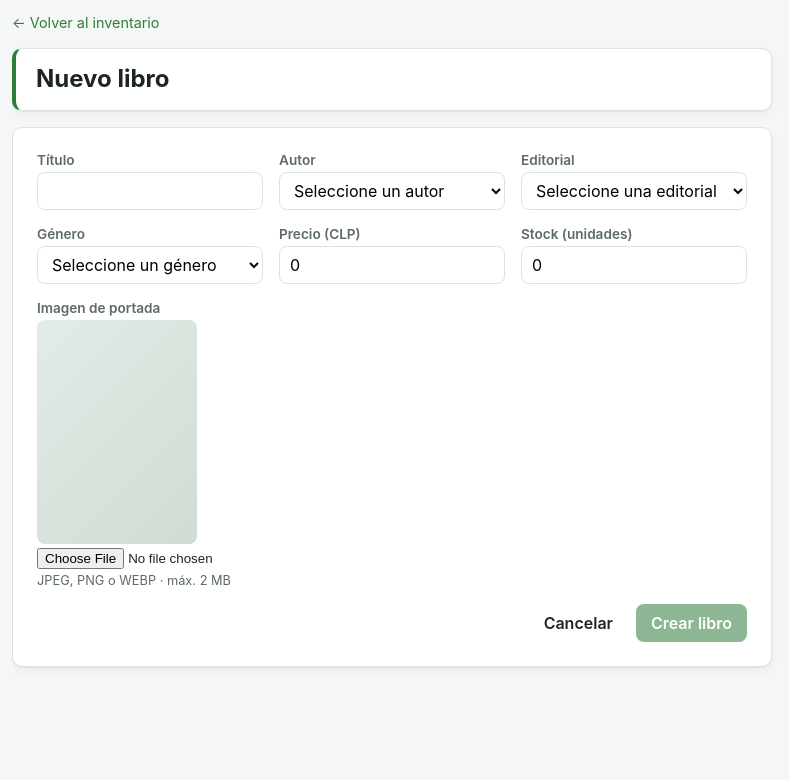
Test: BookCreatePage › keeps the user on the form when saving fails
Type "Rayuela" into the field labelled "Título" at (150, 191), box [37,172,263,210]
Select "Julio Cortázar" in the dropdown labelled "Autor" at (392, 191), box [279,172,505,210]
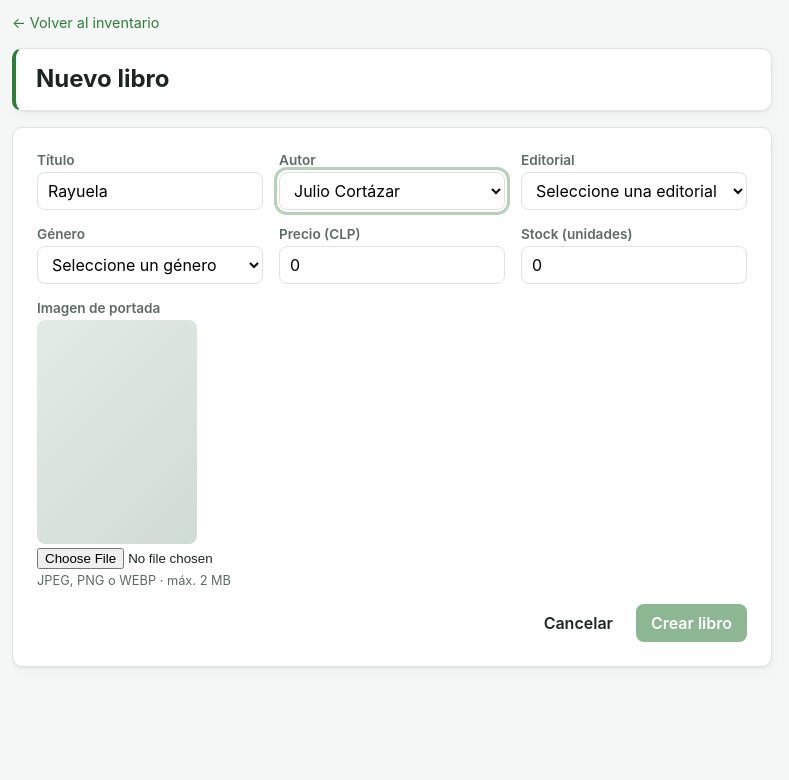
Select "Sudamericana" in the dropdown labelled "Editorial" at (634, 191), box [521,172,747,210]
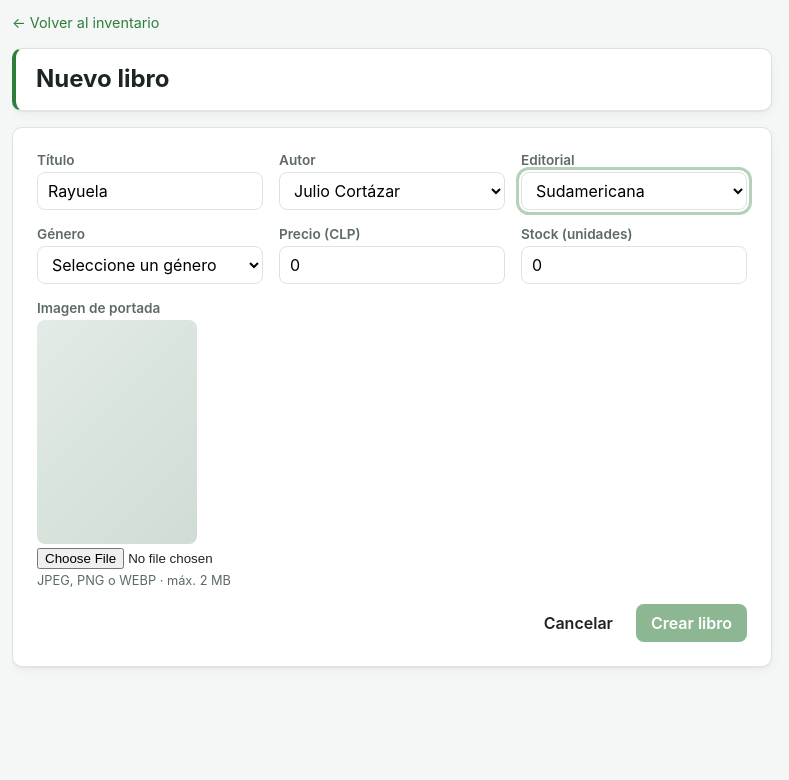
Select "Novela" in the dropdown labelled "Género" at (150, 265), box [37,246,263,284]
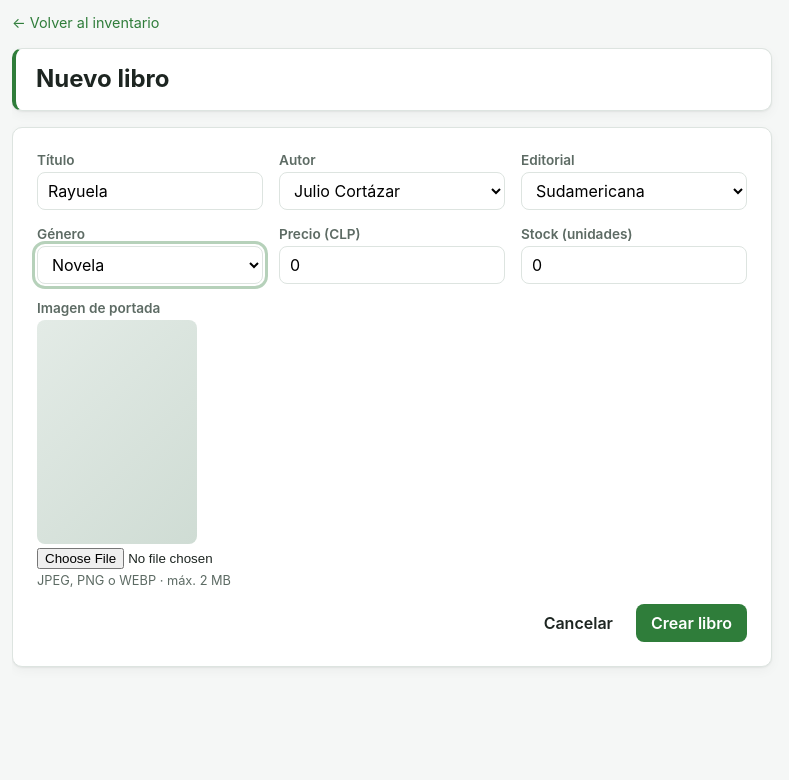
Type "5" into the number field labelled "Precio (CLP)" at (392, 265), box [279,246,505,284]
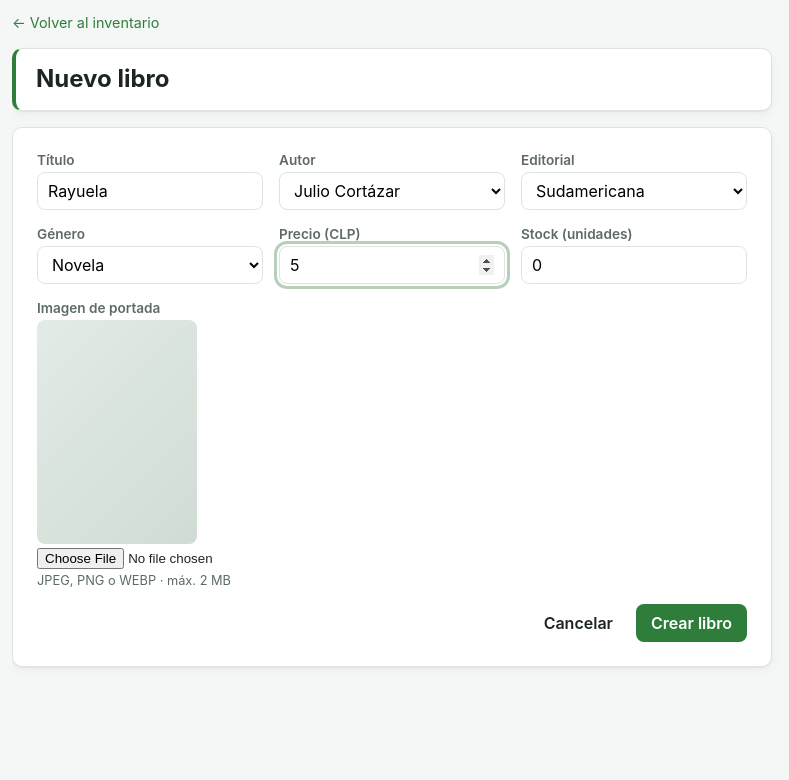
Type "2" into the number field labelled "Stock (unidades)" at (634, 265), box [521,246,747,284]
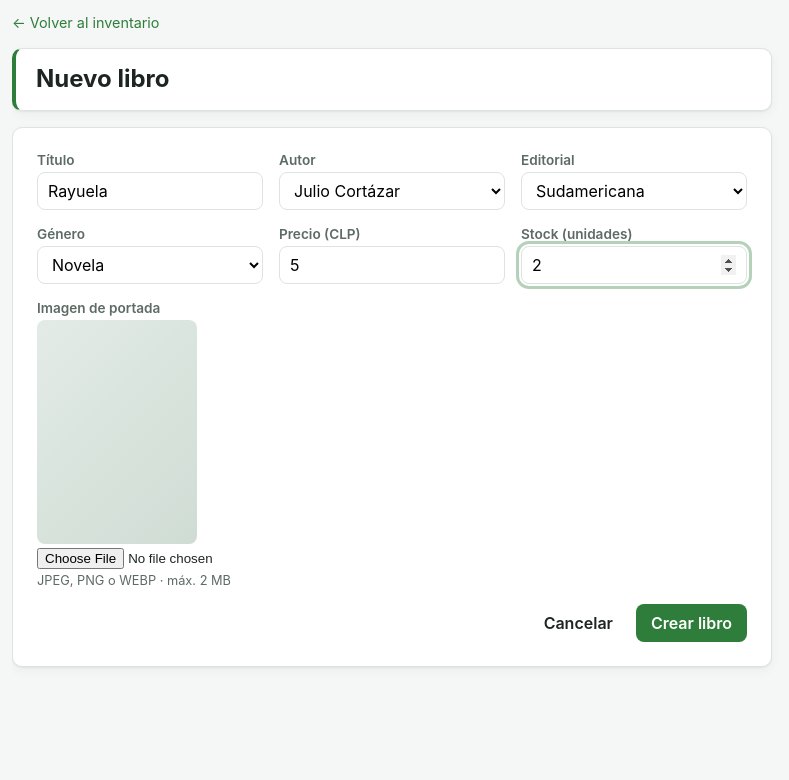
Result: the button "Crear libro" is enabled
Click the button "Crear libro" at (691, 623), box [636,604,747,642]
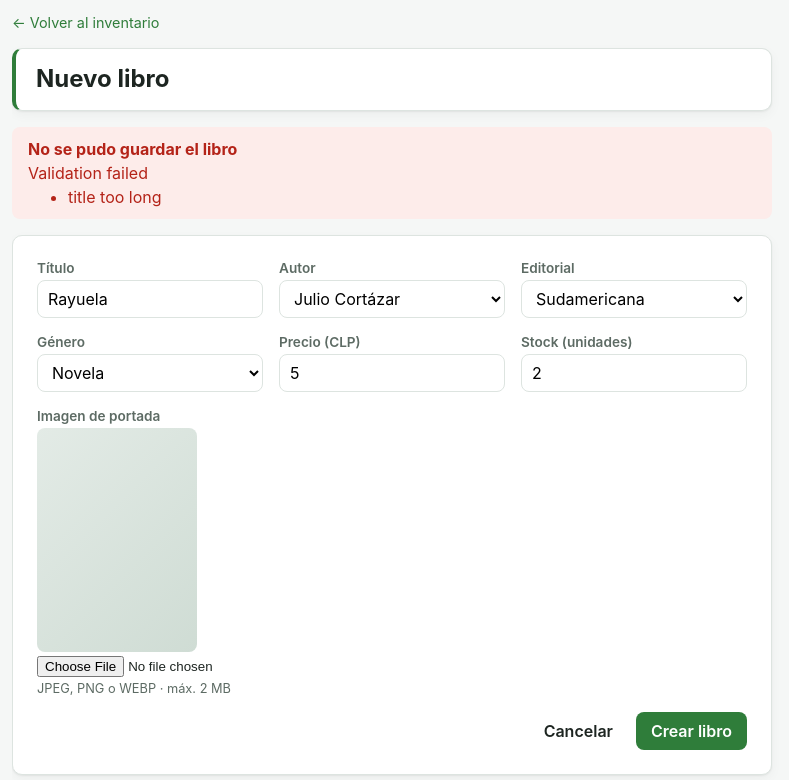
Result: the list item "title too long" is shown at [68,187,162,207]
